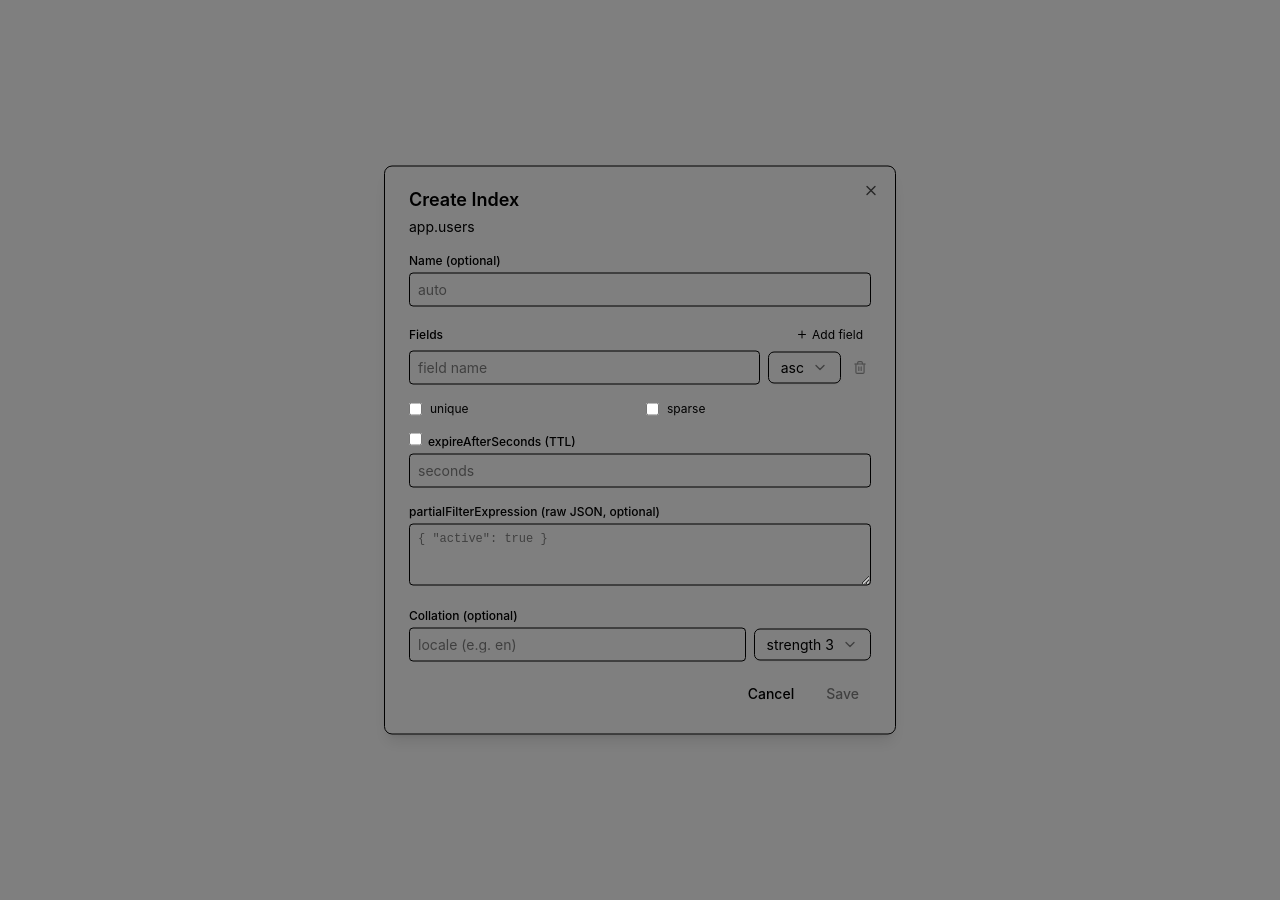
Test case: CreateMongoIndexDialog › disables expireAfterSeconds and shows a hint when 2+ field rows are present (compound)
Click the button with test id "mongo-create-index-add-field": [830, 334] box [788,322,871,346]
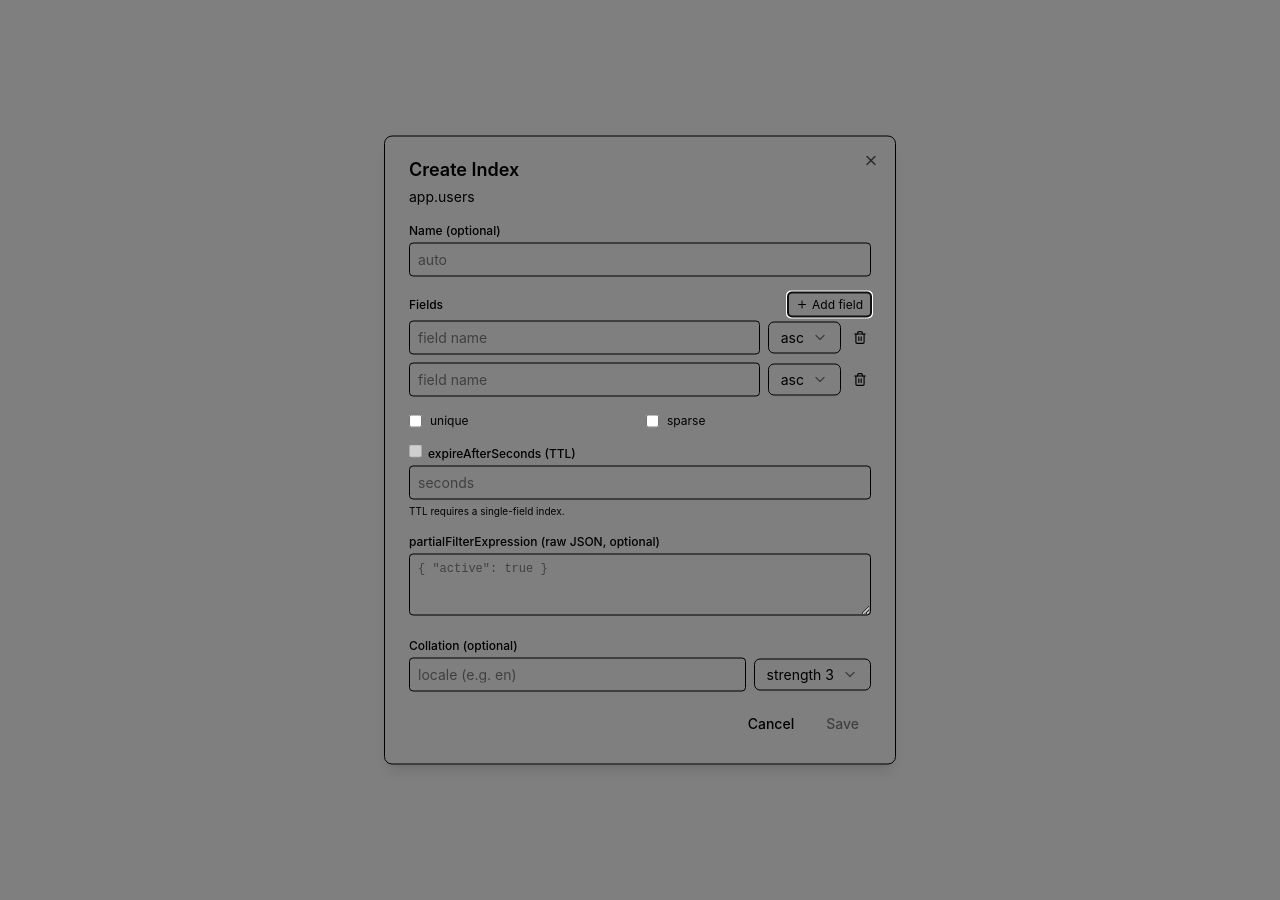
Expected: the number field with test id "mongo-create-index-ttl" is disabled, [409,466,871,500]
Expected: the checkbox with test id "mongo-create-index-ttl-toggle" is disabled, [409,444,422,458]
Expected: the text "TTL requires a single-field index." is shown, [409,504,564,516]
